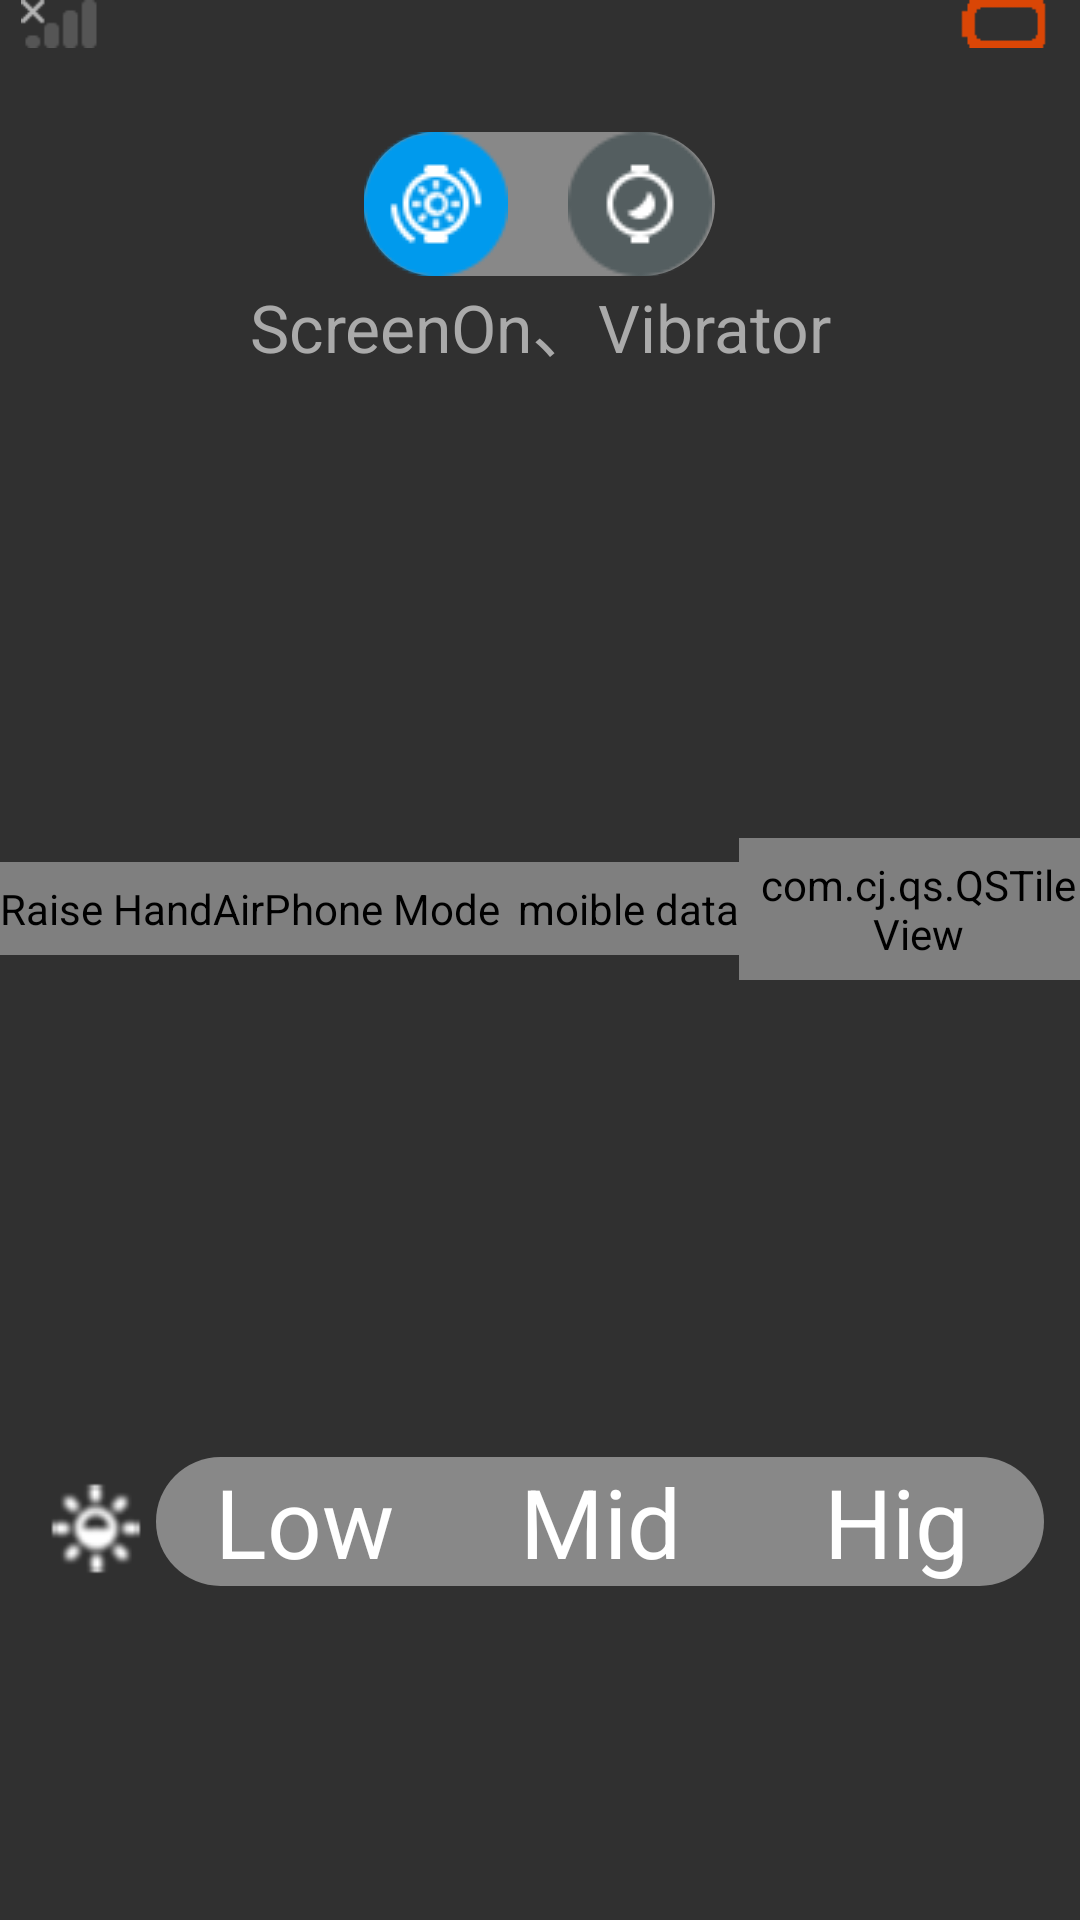

Icons on this 1080×1920 Android screen, each with its box as detection(x1, y1, x2, y2):
battery: detection(961, 0, 1046, 48)
Brightness Level: detection(51, 1484, 141, 1573)
mobile strength null: detection(21, 0, 96, 48)
Slience: detection(568, 132, 712, 276)
